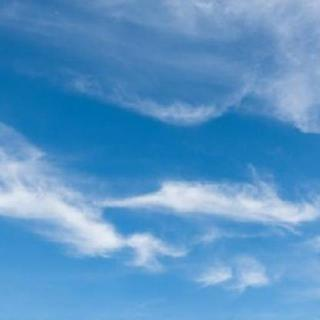Cirrocumulus: (0, 0, 320, 296)
